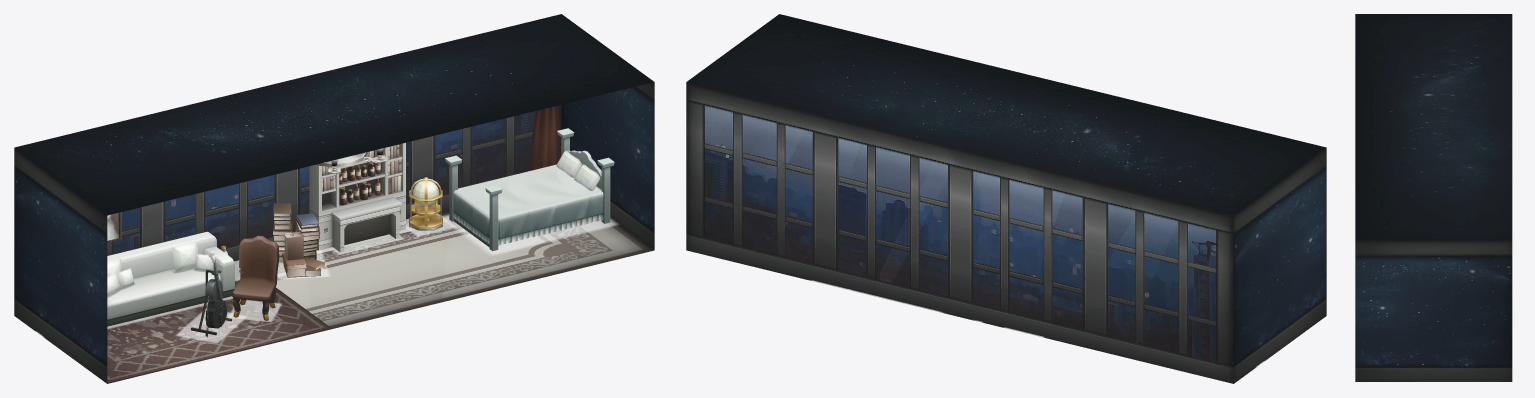
File: nightView.glb
3 views of the same model, side by side, from view 1: azimuth 30°, elevation 25°; view 2: azimuth 150°, elevation 25°; view 3: azimuth 270°, elevation 25° (orthographic). The views are drawn at different scales.
Visible parts, largest first — view 1: ROOM_room, ROOM_floor, furni_nightView_bed_01, furni_nightView_carpet_01, furni_nightView_sofa_01, furni_nightView_studyTable_01, furni_nightView_celloChair_01, furni_nightView_books_01, furni_nightView_studyTable_02, furni_nightView_curtain_R_01, furni_nightView_sofa_02, furni_nightView_globe_01 (+9 smaller); view 2: ROOM_room, ROOM_LDoor; view 3: ROOM_room, ROOM_RDoor.
Boxes of the visible parts, bbox=[...] form: ROOM_room: bbox=[14, 14, 654, 383]; ROOM_floor: bbox=[107, 210, 654, 383]; furni_nightView_bed_01: bbox=[445, 128, 614, 251]; furni_nightView_carpet_01: bbox=[107, 261, 331, 382]; furni_nightView_sofa_01: bbox=[107, 231, 235, 326]; furni_nightView_studyTable_01: bbox=[309, 142, 405, 252]; furni_nightView_celloChair_01: bbox=[231, 235, 279, 320]; furni_nightView_books_01: bbox=[273, 203, 324, 277]; furni_nightView_studyTable_02: bbox=[322, 144, 401, 205]; furni_nightView_curtain_R_01: bbox=[529, 105, 561, 170]; furni_nightView_sofa_02: bbox=[107, 241, 213, 296]; furni_nightView_globe_01: bbox=[409, 177, 442, 230]; ROOM_room: bbox=[686, 14, 1326, 383]; ROOM_LDoor: bbox=[1294, 249, 1312, 339]; ROOM_room: bbox=[1355, 14, 1512, 381]; ROOM_RDoor: bbox=[1378, 317, 1410, 381].
Bounding box in the file's own units: 7.69 × 2.2 × 2.31.
6 materials, 6 textured.
